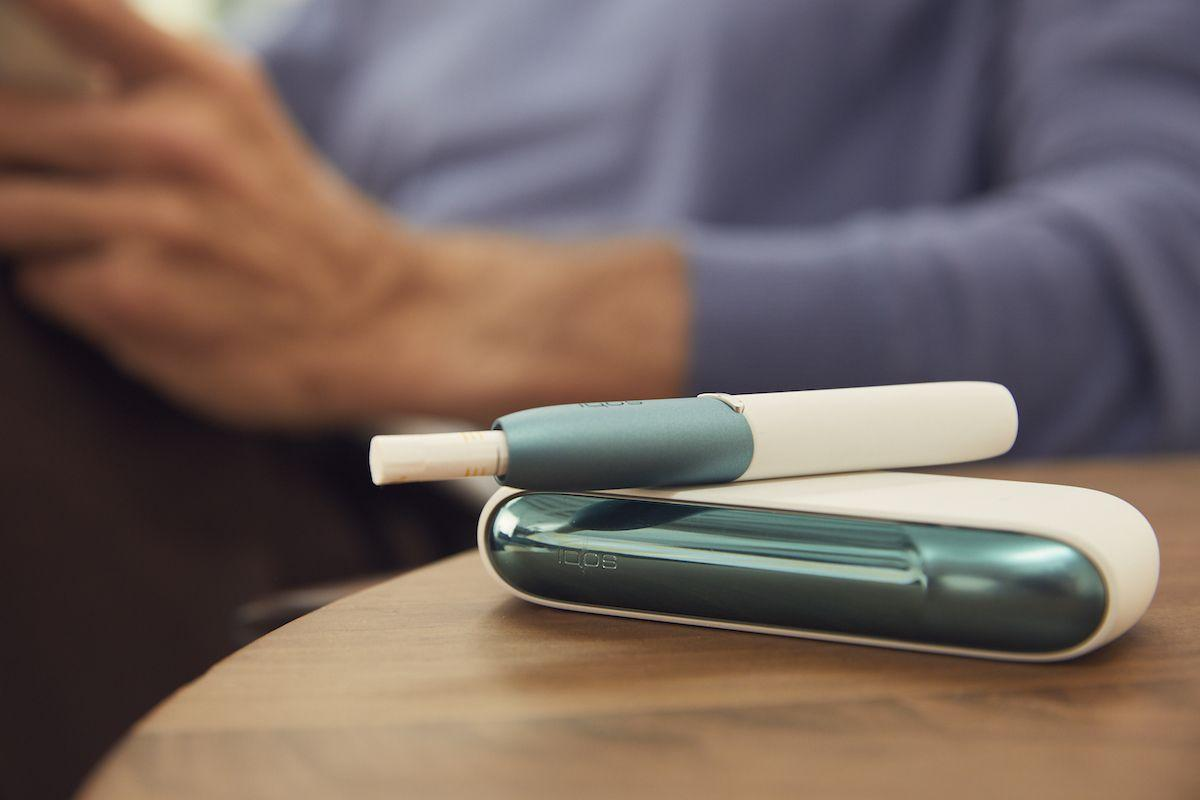iqos: (371, 382, 1018, 490)
